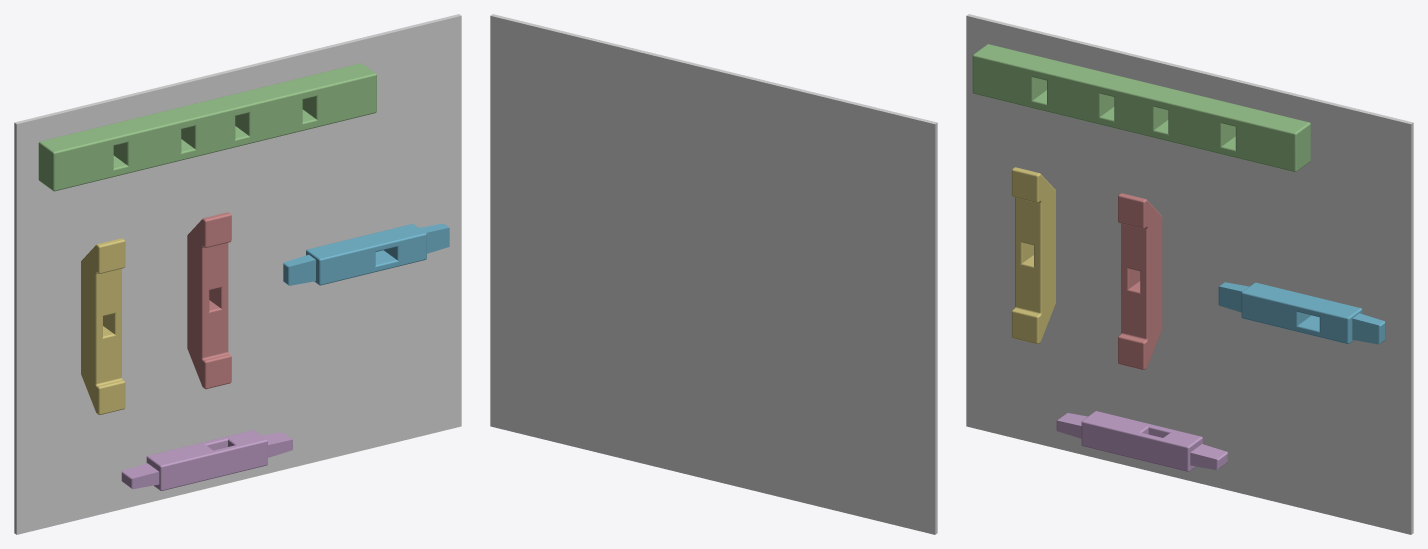
The model's file is pickup_layout.glb.
3 views of the same model, side by side, from view 1: azimuth 30°, elevation 25°; view 2: azimuth 150°, elevation 25°; view 3: azimuth 330°, elevation 25° (orthographic).
Parts seen in each view (by area): view 1: world, 6.obj, 0.obj, 1.obj, 2.obj, 3.obj; view 2: world; view 3: world, 6.obj, 0.obj, 1.obj, 2.obj, 3.obj.
Boxes of the visible parts, box(x1,y1,x2,y2) form: world: box(14, 14, 461, 534); 6.obj: box(38, 63, 376, 191); 0.obj: box(187, 212, 231, 389); 1.obj: box(81, 238, 125, 415); 2.obj: box(283, 223, 449, 285); 3.obj: box(121, 430, 292, 490); world: box(490, 14, 937, 534); world: box(966, 14, 1413, 534); 6.obj: box(972, 44, 1310, 172); 0.obj: box(1118, 193, 1162, 369); 1.obj: box(1011, 167, 1055, 344); 2.obj: box(1218, 282, 1385, 344); 3.obj: box(1056, 411, 1227, 471).
Size of the model in its own units: 20.93 by 18.46 by 1.72.
